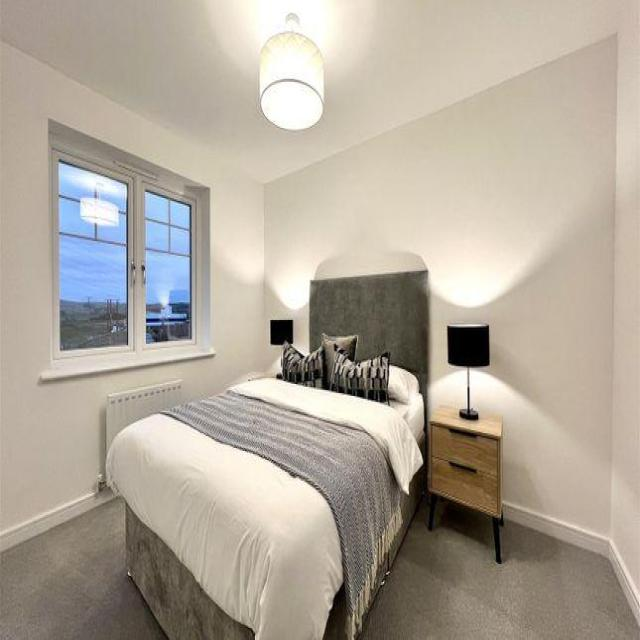Wall: (265, 37, 614, 543), (0, 41, 265, 548), (0, 0, 616, 182), (361, 501, 640, 639), (0, 499, 163, 639), (610, 0, 640, 603)
